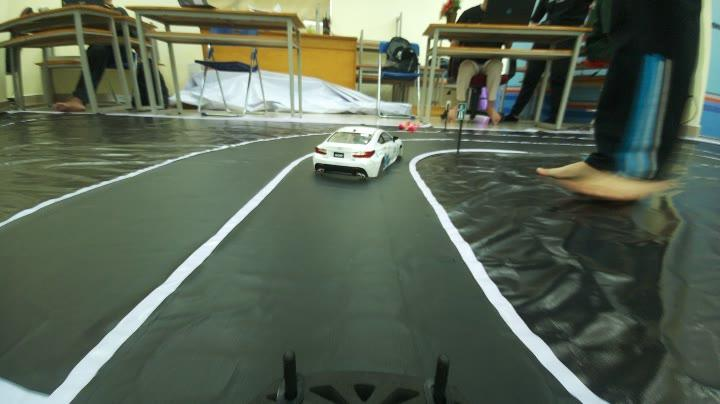car: (305, 124, 405, 183)
